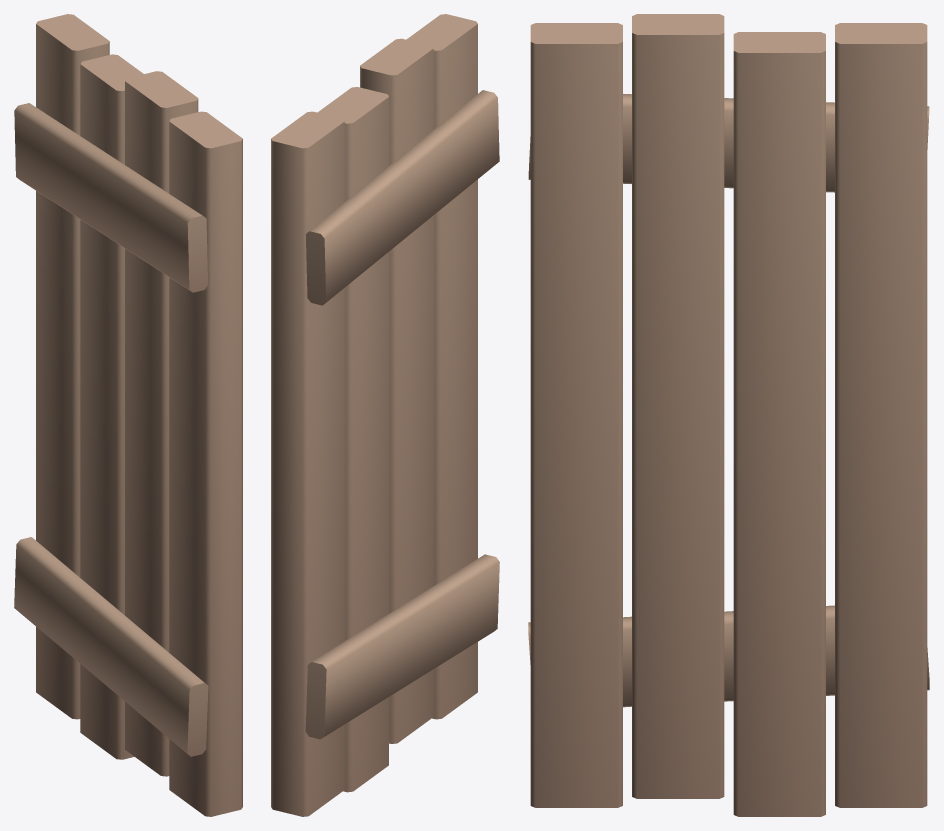
File: shutter-classic-rustic (%wall).glb
3 views of the same model, side by side, from view 1: azimuth 30°, elevation 25°; view 2: azimuth 150°, elevation 25°; view 3: azimuth 270°, elevation 25° (orthographic). The views are drawn at different scales.
Visible parts, largest first — view 1: shutter-classic-rustic (%wall); view 2: shutter-classic-rustic (%wall); view 3: shutter-classic-rustic (%wall).
Part boxes in pixels (left/top/right/bottom): shutter-classic-rustic (%wall): left=14, top=14, right=242, bottom=816; shutter-classic-rustic (%wall): left=271, top=14, right=499, bottom=816; shutter-classic-rustic (%wall): left=528, top=14, right=929, bottom=816.
Size of the model in its own units: 0.075 by 0.87 by 0.4049.
